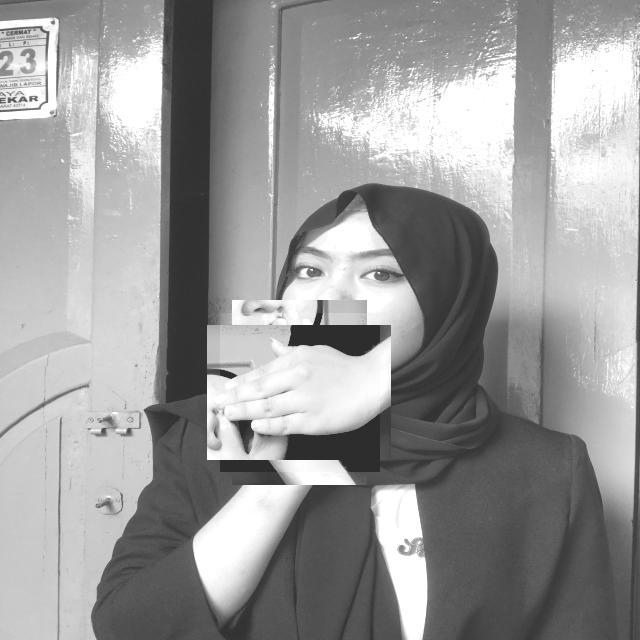ngantuk: (220, 313, 380, 472)
